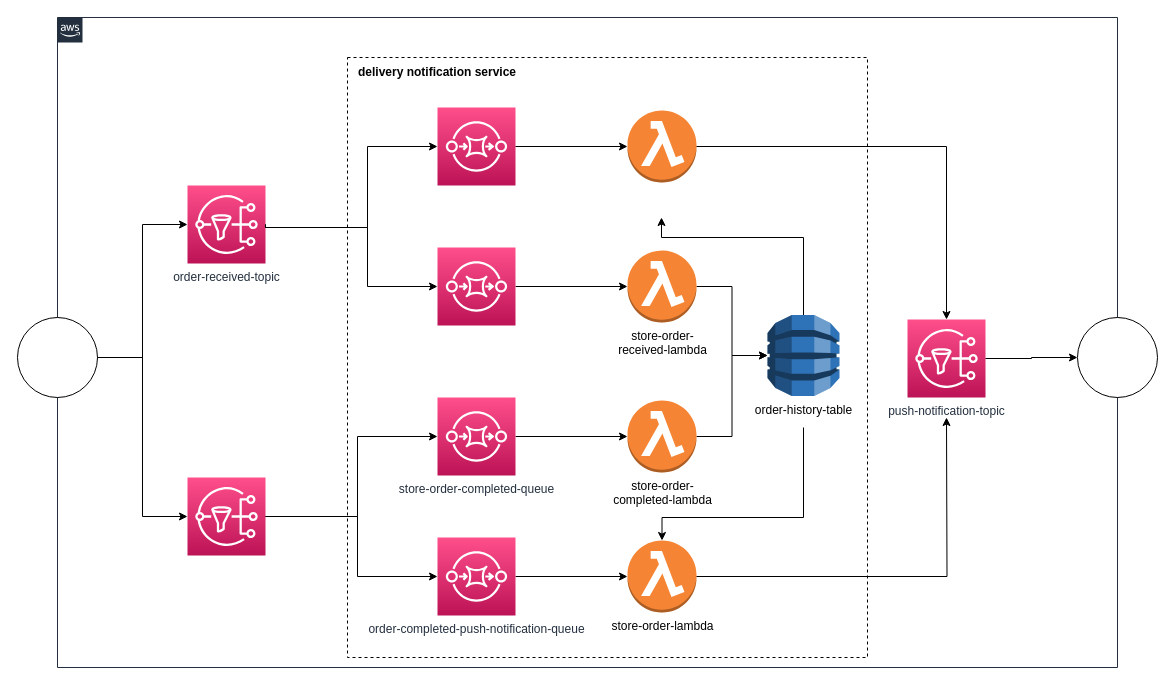
This 1175x685 diagram has some shape labels left out. The box of each missing label's shape, as (x1, y1, x2, y2) in pixels:
order-completed-topic: (186, 476, 266, 556)
order-received-push- notification-lambda: (626, 110, 696, 182)
order-received-push-notification-queue: (436, 106, 516, 186)
store-order-received-queue: (436, 246, 516, 326)
